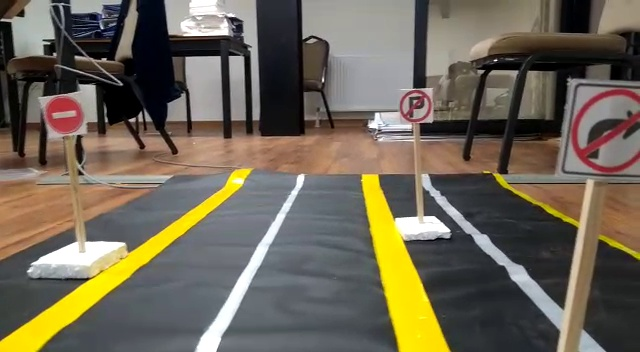girisi_olmayan_yol: (47, 93, 86, 134)
park_yapilmaz: (397, 87, 434, 123)
saga_donulmez: (568, 80, 640, 179)
